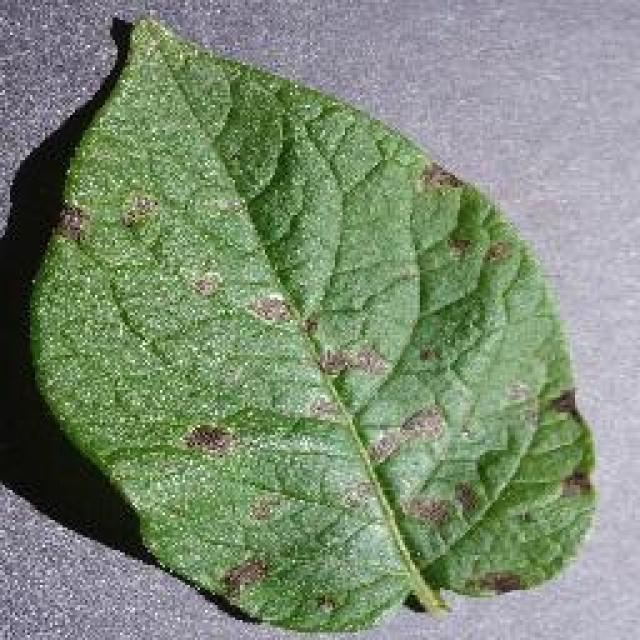early_blight: (20, 10, 600, 635)
